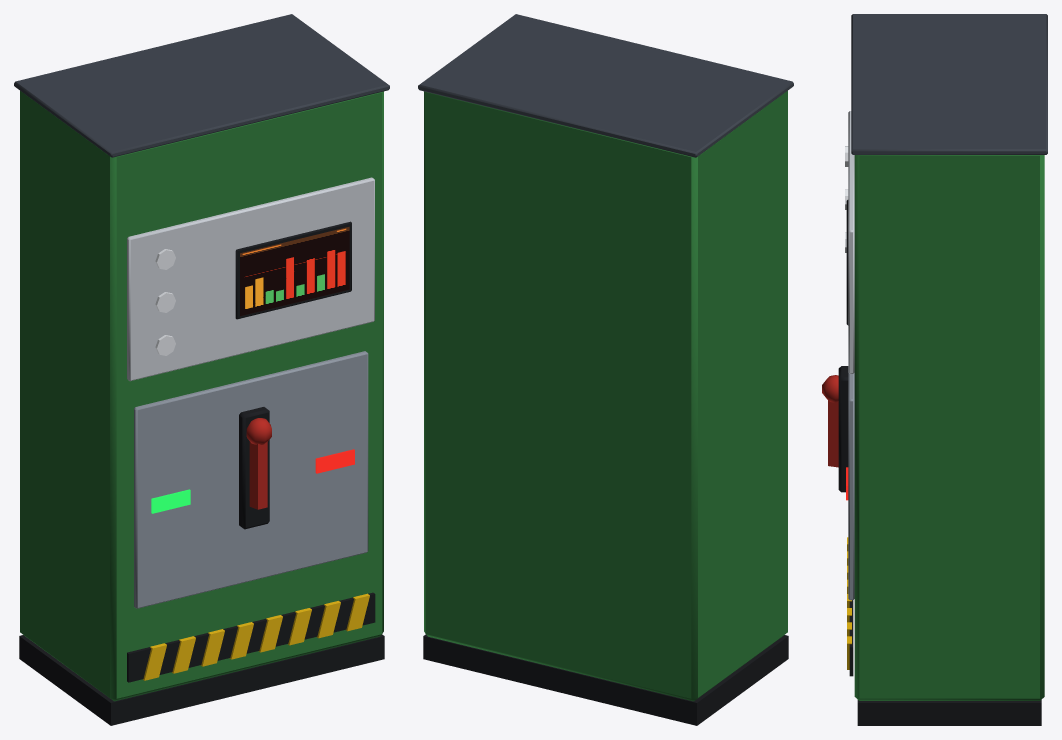
Rendered from junction_switchgear.glb.
The picture shows the model from 3 angles, left to right: view 1: azimuth 30°, elevation 25°; view 2: azimuth 150°, elevation 25°; view 3: azimuth 270°, elevation 25°; orthographic projection.
Parts seen in each view (by area): view 1: junction_switchgear; view 2: junction_switchgear; view 3: junction_switchgear.
Boxes of the visible parts, bbox=[...] form: junction_switchgear: bbox=[14, 14, 389, 725]; junction_switchgear: bbox=[418, 14, 793, 725]; junction_switchgear: bbox=[822, 14, 1047, 725].
Size of the model in its own units: 1.02 by 2.01 by 0.7128.
11 materials, 1 textured.
